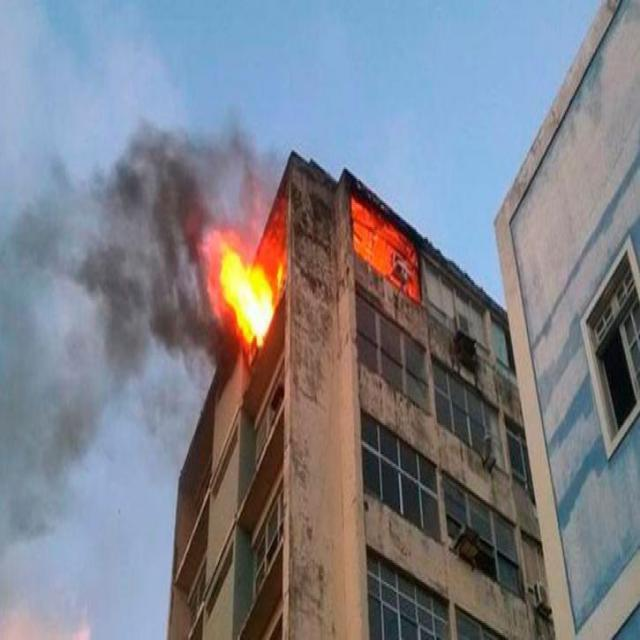Fire: (202, 228, 284, 348)
Smoke: (0, 111, 168, 522), (7, 114, 198, 358), (144, 112, 266, 225)
